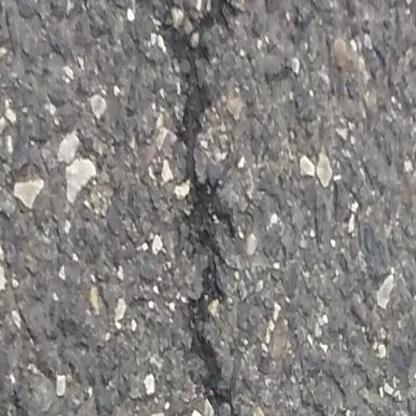Cracks: (132, 0, 244, 416)
